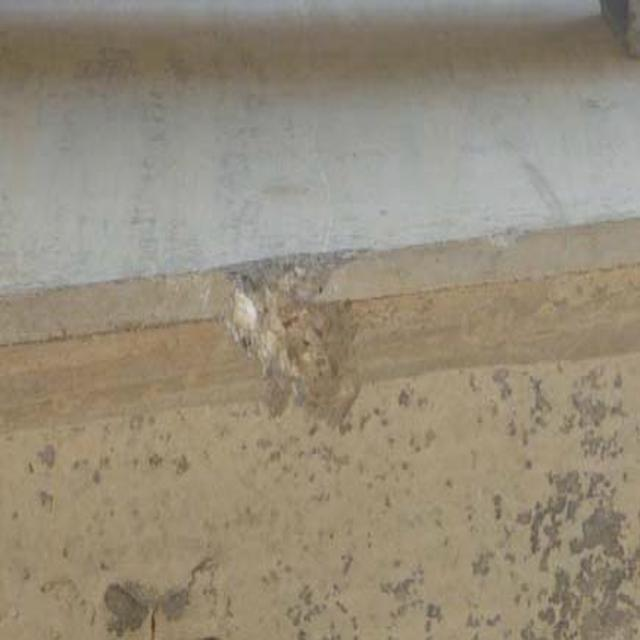spalling: (206, 223, 386, 430)
